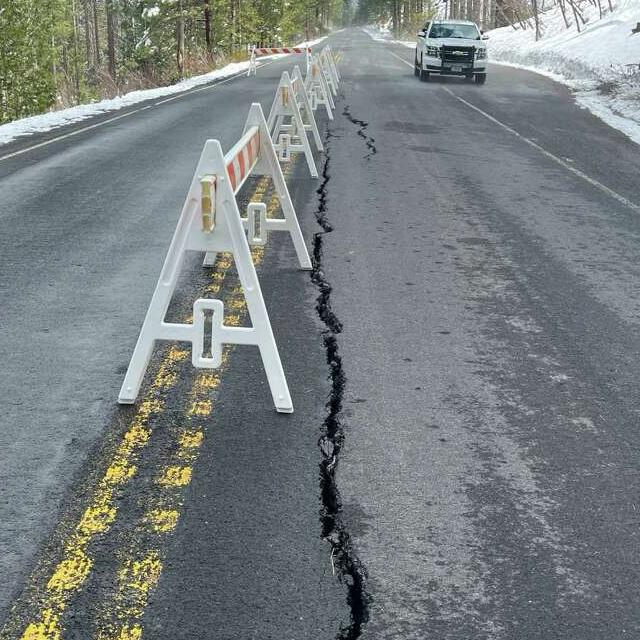retak_memanjang: (265, 172, 415, 640), (325, 82, 388, 185)
